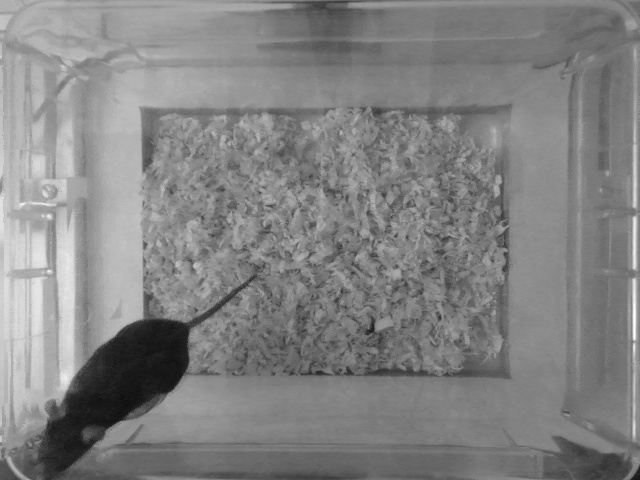mice: (32, 269, 268, 476)
